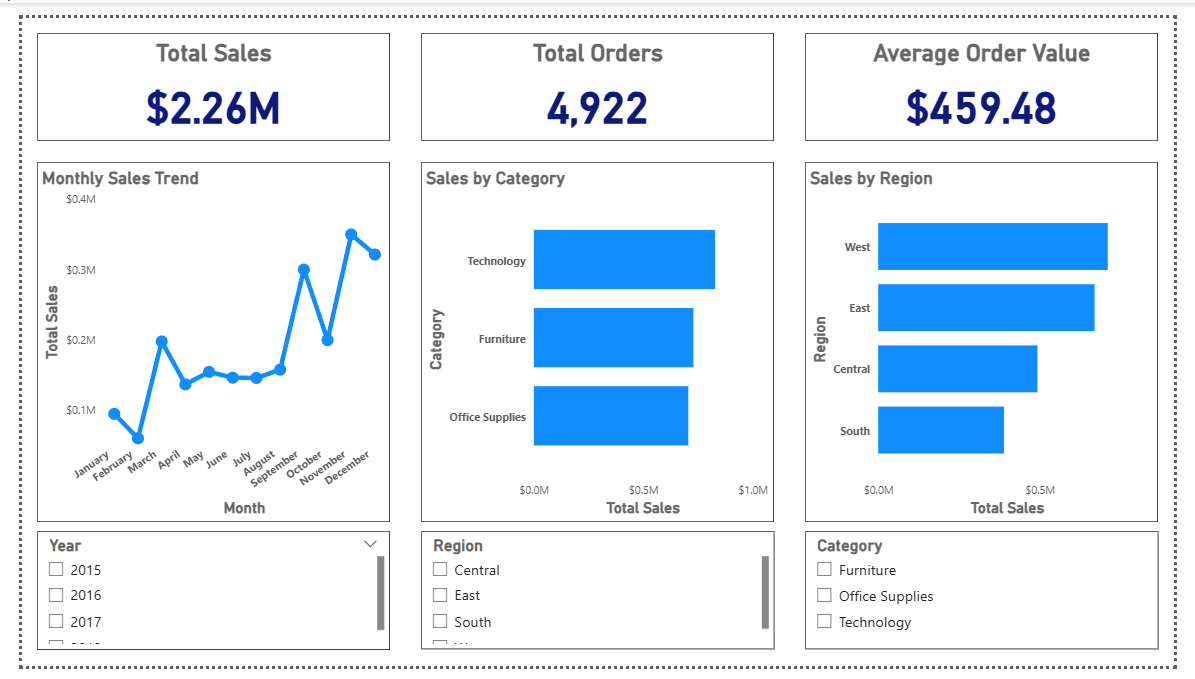

The dashboard page shown, as its layout file describes it:
{"tool":"powerbi","page":{"name":"Page 1","canvas":[1280,720],"ordinal":0},"visuals":[{"type":"card","title":"Total Sales","fields":{"Values":["Sales_Data_Cleaned.Total Sales"]},"box":[16,16,392,120],"z":0},{"type":"card","title":"Total Orders","fields":{"Values":["Sales_Data_Cleaned.Total Orders"]},"box":[444,16,392,120],"z":1000},{"type":"card","title":"Average Order Value","fields":{"Values":["Sales_Data_Cleaned.Average Order Value"]},"box":[870,16,392,120],"z":2000},{"type":"lineChart","title":"Monthly Sales Trend","fields":{"Y":["Sales_Data_Cleaned.Total Sales"],"Category":["Sales_Data_Cleaned.Order_Date.Variation.Date Hierarchy.Month"]},"box":[16,160,392,400],"z":3000},{"type":"clusteredBarChart","title":"Sales by Category","fields":{"Y":["Sales_Data_Cleaned.Total Sales"],"Category":["Sales_Data_Cleaned.Category"]},"box":[443.3,160,391.7,400],"z":3001},{"type":"clusteredBarChart","title":"Sales by Region","fields":{"Y":["Sales_Data_Cleaned.Total Sales"],"Category":["Sales_Data_Cleaned.Region"]},"box":[870,160,391.7,400],"z":3002},{"type":"slicer","fields":{"Values":["Sales_Data_Cleaned.Order_Date.Variation.Date Hierarchy.Year"]},"box":[16.7,570,391.7,131.7],"z":3003},{"type":"slicer","fields":{"Values":["Sales_Data_Cleaned.Category"]},"box":[870,570,392.5,131.2],"z":3004},{"type":"slicer","fields":{"Values":["Sales_Data_Cleaned.Region"]},"box":[442.5,570,392.5,131.2],"z":3005}]}

Visuals, with their boxes in screenshot pixels (x1, y1, x2, y2), scaled from the page's 1280x720 canvas onto the 1195x679 screenshot:
"Total Sales" card: [15,15,381,128]
"Total Orders" card: [415,15,780,128]
"Average Order Value" card: [812,15,1178,128]
"Monthly Sales Trend" lineChart: [15,151,381,528]
"Sales by Category" clusteredBarChart: [414,151,780,528]
"Sales by Region" clusteredBarChart: [812,151,1178,528]
slicer - Sales_Data_Cleaned.Order_Date.Variation.Date Hierarchy.Year: [16,538,381,662]
slicer - Sales_Data_Cleaned.Category: [812,538,1179,661]
slicer - Sales_Data_Cleaned.Region: [413,538,780,661]
